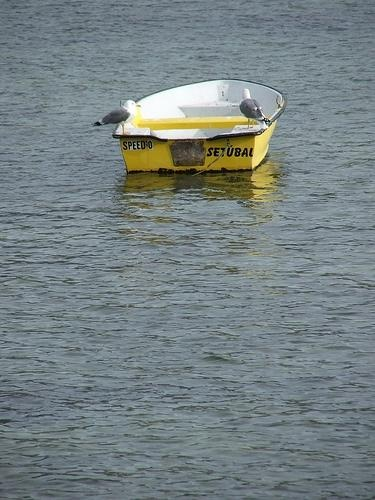bird: (93, 100, 142, 140), (239, 88, 276, 133)
boat: (92, 74, 292, 178)
